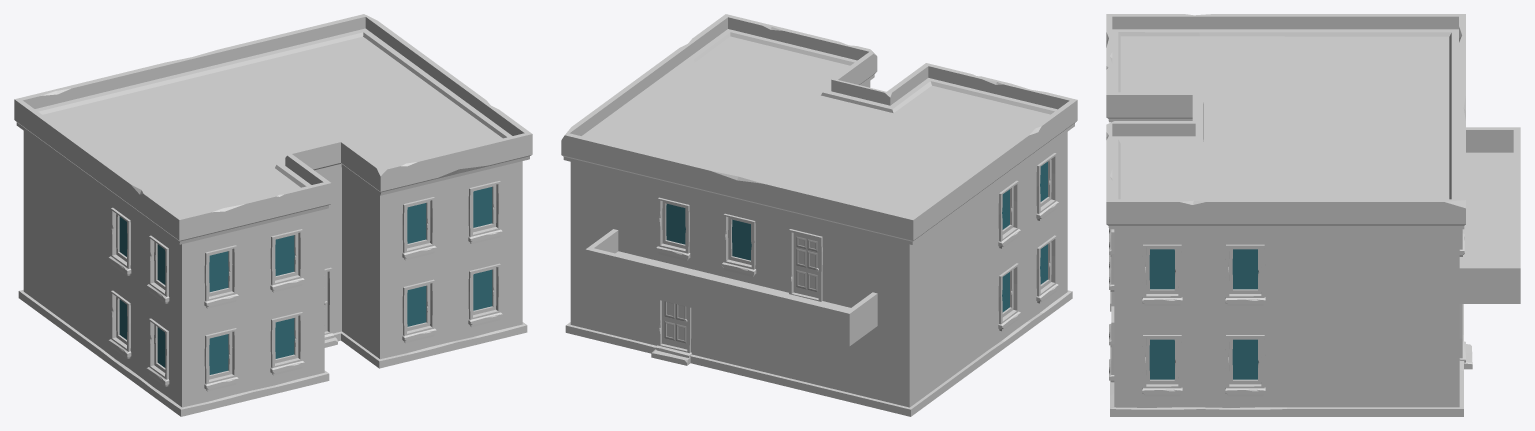
The picture shows the model from 3 angles, left to right: view 1: azimuth 30°, elevation 25°; view 2: azimuth 150°, elevation 25°; view 3: azimuth 270°, elevation 25°; orthographic projection. The views are drawn at different scales.
Visible parts, largest first — view 1: SM_Bld_House_02, SM_Bld_House_02_Glass; view 2: SM_Bld_House_02, SM_Bld_House_02_Glass; view 3: SM_Bld_House_02, SM_Bld_House_02_Glass.
Part boxes in pixels (left/top/right/bottom): SM_Bld_House_02: left=14, top=14, right=532, bottom=416; SM_Bld_House_02_Glass: left=119, top=187, right=492, bottom=374; SM_Bld_House_02: left=561, top=14, right=1077, bottom=416; SM_Bld_House_02_Glass: left=666, top=161, right=1047, bottom=312; SM_Bld_House_02: left=1106, top=14, right=1520, bottom=416; SM_Bld_House_02_Glass: left=1149, top=249, right=1258, bottom=379.
Size of the model in its own units: 13.38 by 7.2 by 12.48.
